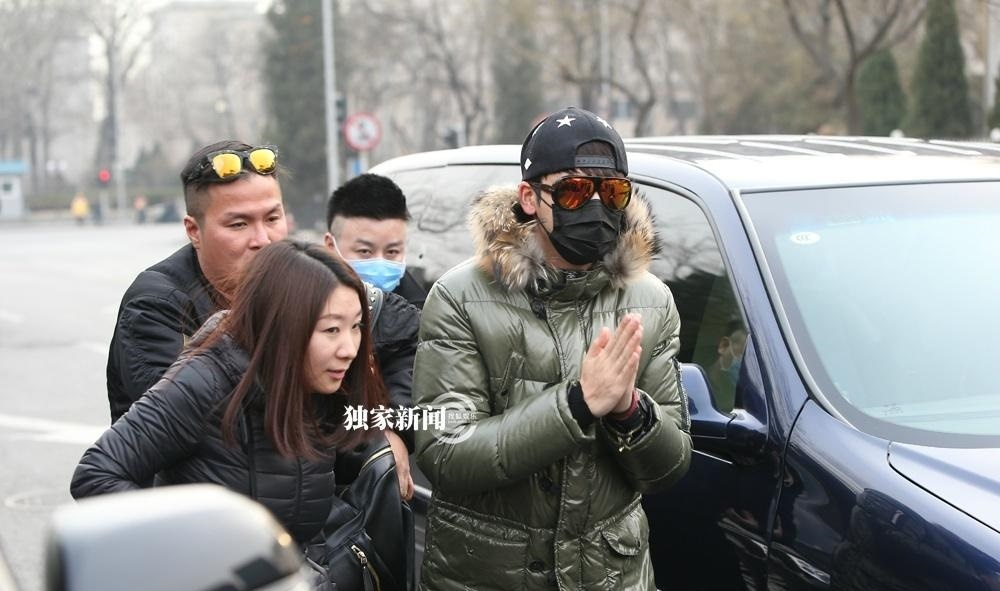Mask: (337, 234, 406, 304)
